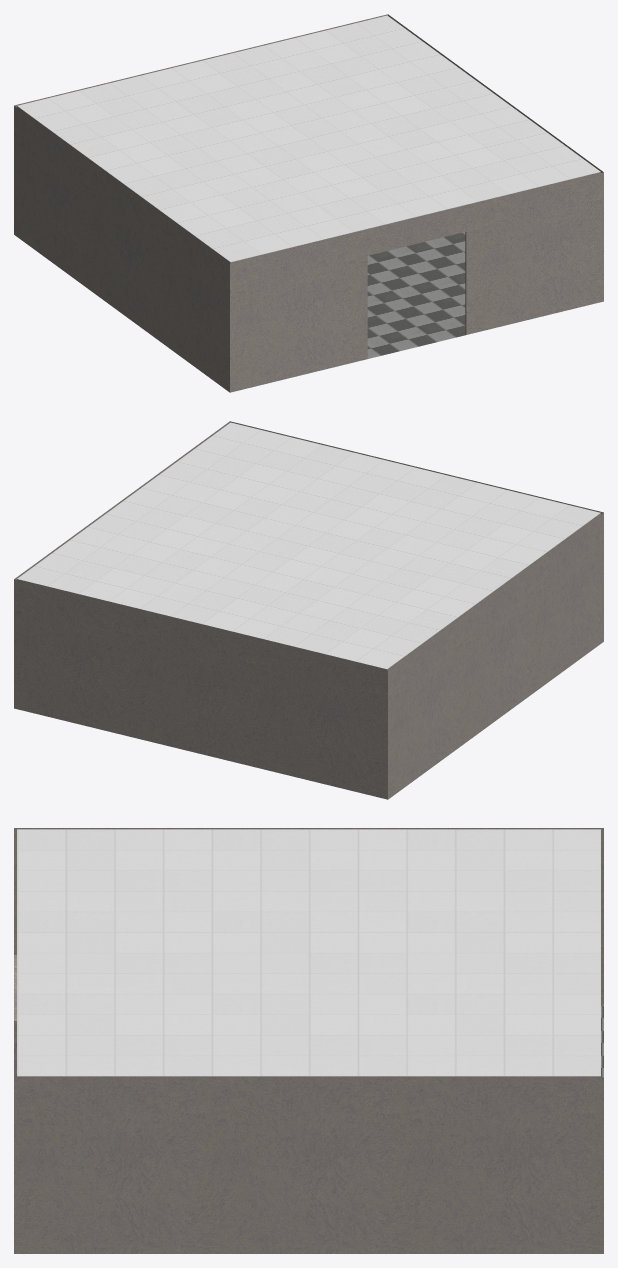
The model's file is baseRoom_exit.glb.
3 views of the same model, one above another, from view 1: azimuth 30°, elevation 25°; view 2: azimuth 150°, elevation 25°; view 3: azimuth 270°, elevation 25° (orthographic). The views are drawn at different scales.
Visible parts, largest first — view 1: baseRoom_exit; view 2: baseRoom_exit; view 3: baseRoom_exit.
Part boxes in pixels (box(x1,y1,x2,y2)): baseRoom_exit: box(14, 14, 603, 392); baseRoom_exit: box(14, 421, 603, 799); baseRoom_exit: box(14, 828, 603, 1253).
Size of what is drawn, in the model's own units: 15.15 by 5 by 15.15.
Materials: 3 (3 with a texture image).
